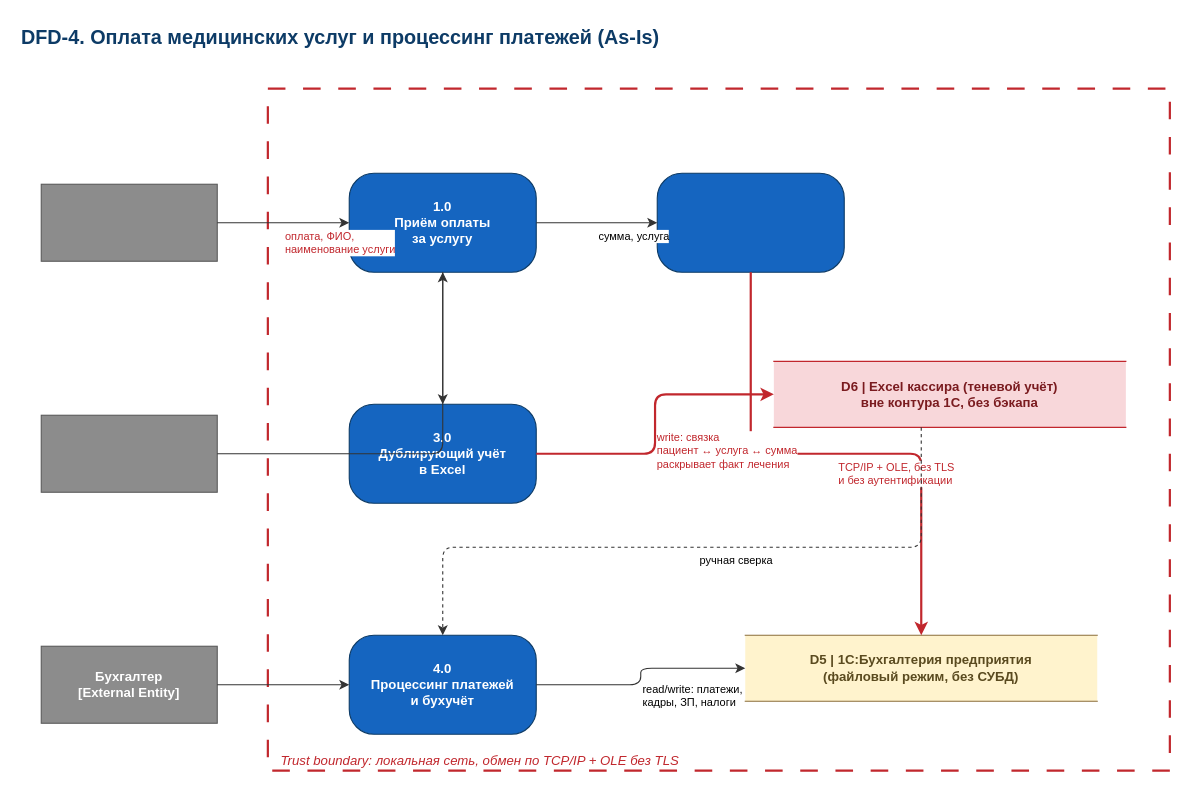
The diagram is 1189 pixels wide and 790 high, and some of its shapes have lost their labels. The centre of each missing label's shape, as x and y in pixels:
2.0 Фискализация чека (ККМ): pixel 750 222
Кассир [External Entity]: pixel 128 453
Пациент [External Entity]: pixel 128 222
